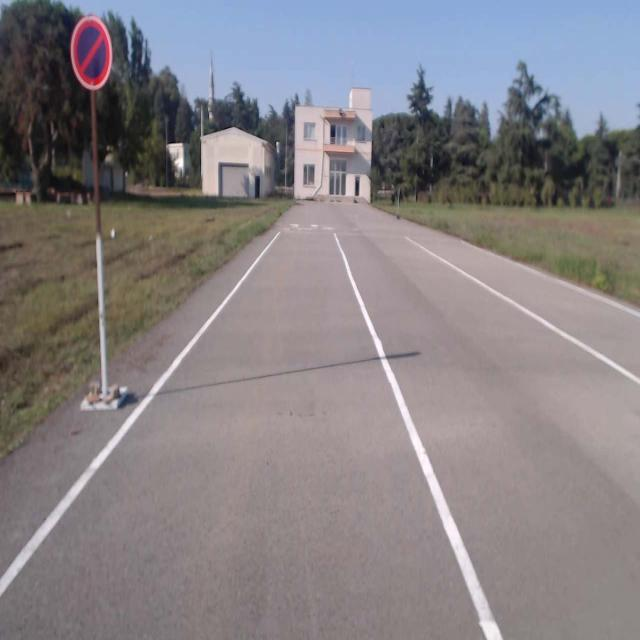parkyasak: (71, 18, 111, 89)
